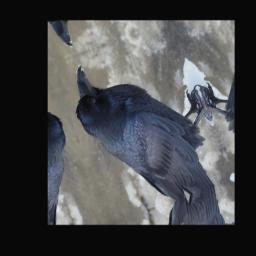Crow: (59, 30, 234, 221)
